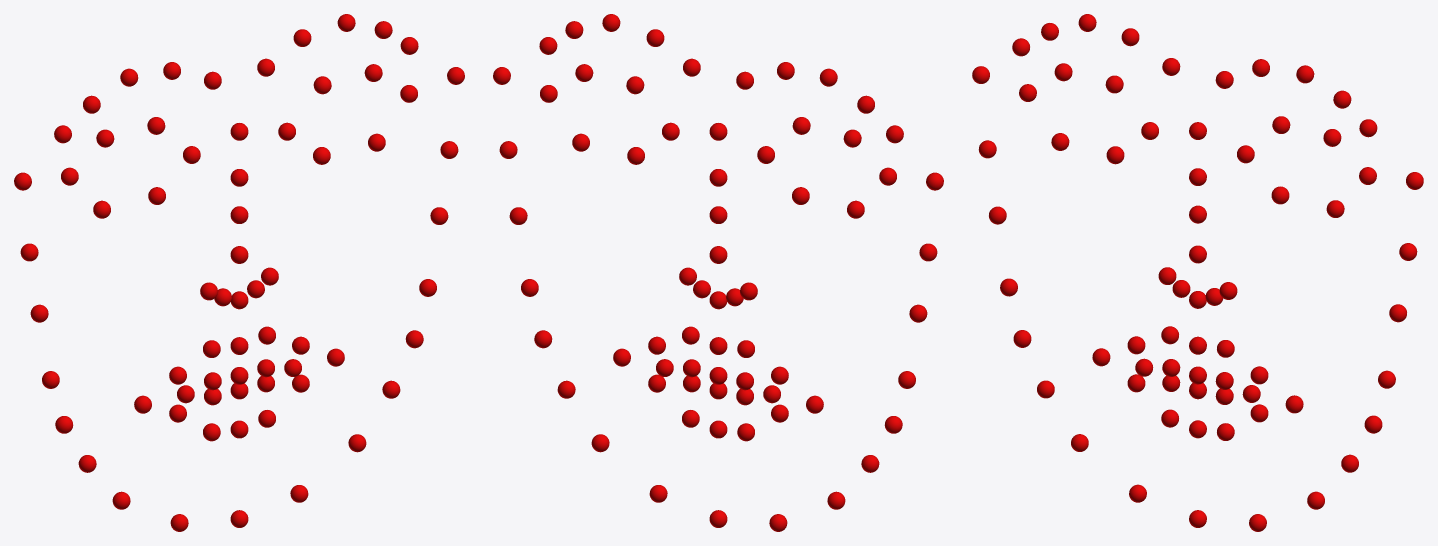
File: morph_beauty1.fbx
The picture shows the model from 3 angles, left to right: view 1: azimuth 30°, elevation 25°; view 2: azimuth 150°, elevation 25°; view 3: azimuth 330°, elevation 25°; orthographic projection.
Size of the model in its own units: 6.97 by 7.22 by 0.242.
